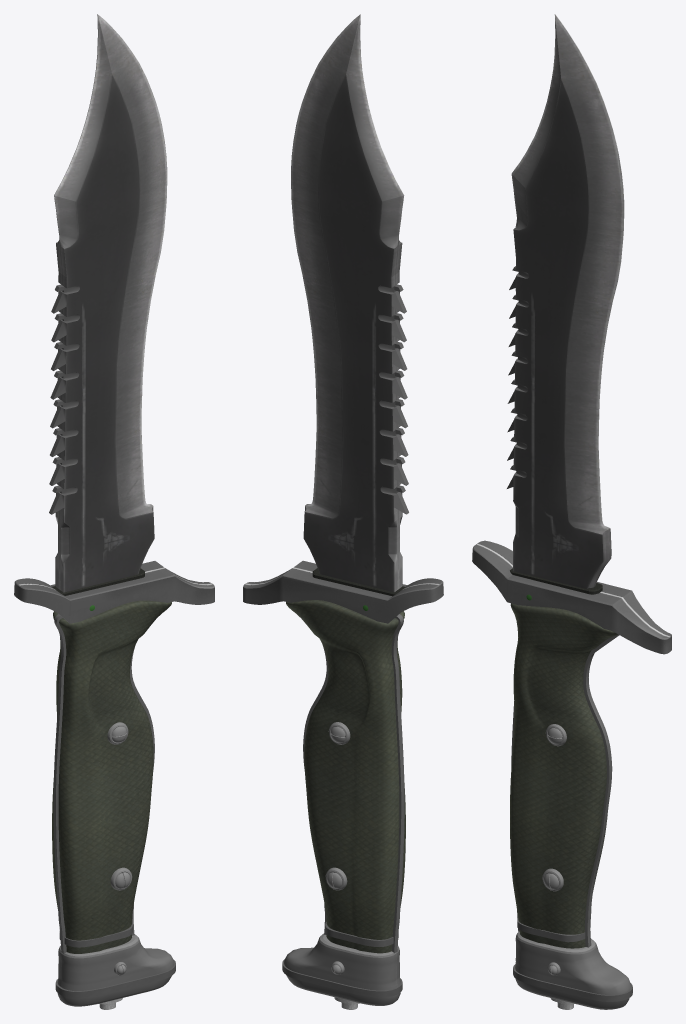
Rendered from weapon_knife_survival_bowie.glb.
The picture shows the model from 3 angles, left to right: view 1: azimuth 30°, elevation 25°; view 2: azimuth 150°, elevation 25°; view 3: azimuth 330°, elevation 25°; orthographic projection.
Visible parts, largest first — view 1: weapons/models/knife/knife_bowie/weapon_knife_bowie.vmdl_c.b; view 2: weapons/models/knife/knife_bowie/weapon_knife_bowie.vmdl_c.b; view 3: weapons/models/knife/knife_bowie/weapon_knife_bowie.vmdl_c.b.
Boxes of the visible parts, box(x1,y1,x2,y2) form: weapons/models/knife/knife_bowie/weapon_knife_bowie.vmdl_c.b: box(14, 14, 214, 1009); weapons/models/knife/knife_bowie/weapon_knife_bowie.vmdl_c.b: box(243, 14, 443, 1009); weapons/models/knife/knife_bowie/weapon_knife_bowie.vmdl_c.b: box(472, 14, 671, 1009).
Bounding box in the file's own units: 3.79 × 18.43 × 1.1.
Materials: 1 (1 with a texture image).
